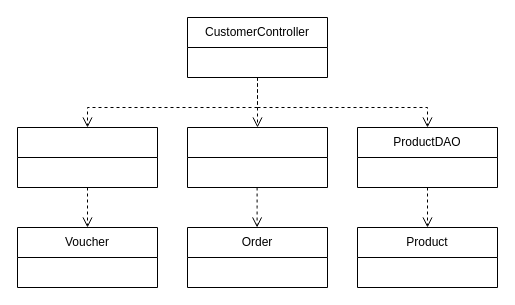
This 515x305 diagram has some shape labels left out. Each missing label, with the centre of its shape:
OrderDAO: point (257, 157)
VoucherDAO: point (87, 157)
